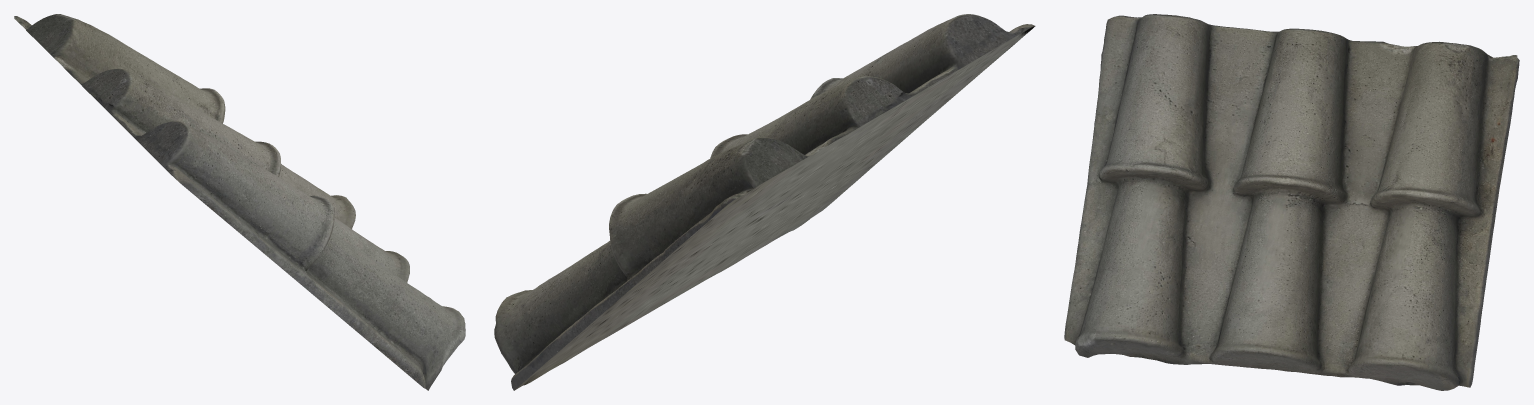
The model's file is Retopo_3DModel_mesh.158.glb.
3 views of the same model, side by side, from view 1: azimuth 30°, elevation 25°; view 2: azimuth 150°, elevation 25°; view 3: azimuth 270°, elevation 25° (orthographic). The views are drawn at different scales.
Visible parts, largest first — view 1: Retopo_3DModel_mesh.158; view 2: Retopo_3DModel_mesh.158; view 3: Retopo_3DModel_mesh.158.
Part boxes in pixels (x1,y1,x2,y2): Retopo_3DModel_mesh.158: (14,14,465,390); Retopo_3DModel_mesh.158: (494,14,1035,390); Retopo_3DModel_mesh.158: (1064,14,1519,390).
Bounding box in the file's own units: 3.49 × 2.91 × 4.53.
Materials: 1 (1 with a texture image).
